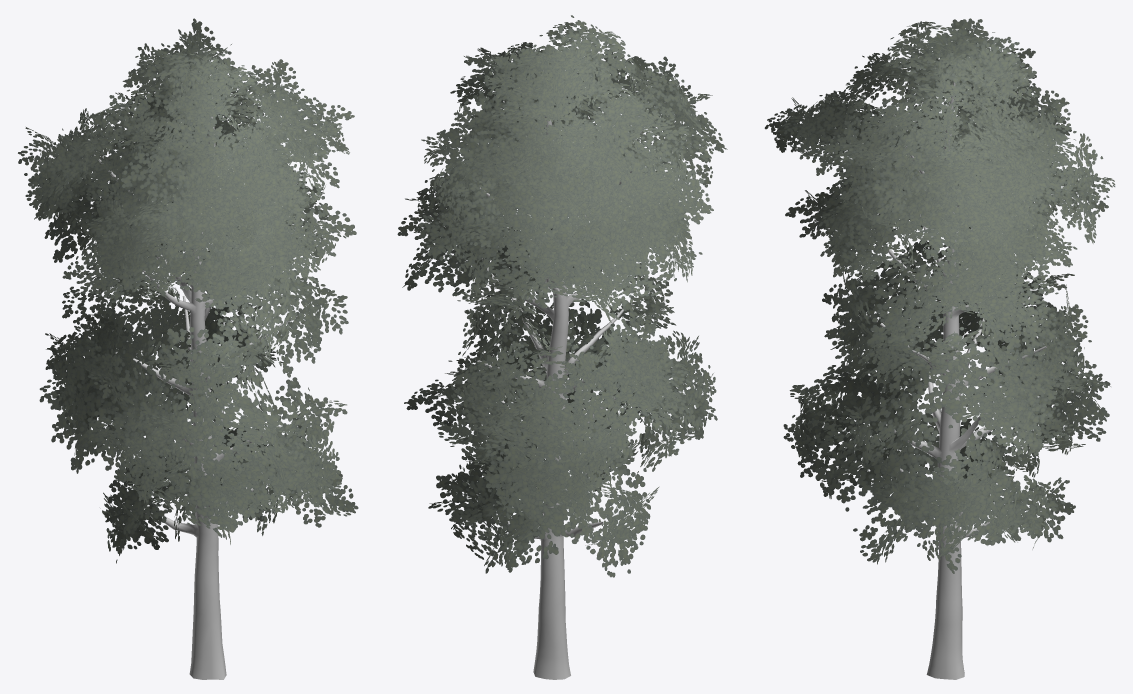
Rendered from SM_Tree_A_02.fbx.
The picture shows the model from 3 angles, left to right: view 1: azimuth 30°, elevation 25°; view 2: azimuth 150°, elevation 25°; view 3: azimuth 270°, elevation 25°; orthographic projection. The views are drawn at different scales.
Visible parts, largest first — view 1: SM_TreeA_02_LOD0; view 2: SM_TreeA_02_LOD0; view 3: SM_TreeA_02_LOD0.
Boxes of the visible parts, box(x1,y1,x2,y2) form: SM_TreeA_02_LOD0: box(18, 18, 358, 679); SM_TreeA_02_LOD0: box(397, 15, 727, 679); SM_TreeA_02_LOD0: box(764, 18, 1115, 679).
Size of what is drawn, in the model's own units: 7.29 by 14.76 by 7.48.
